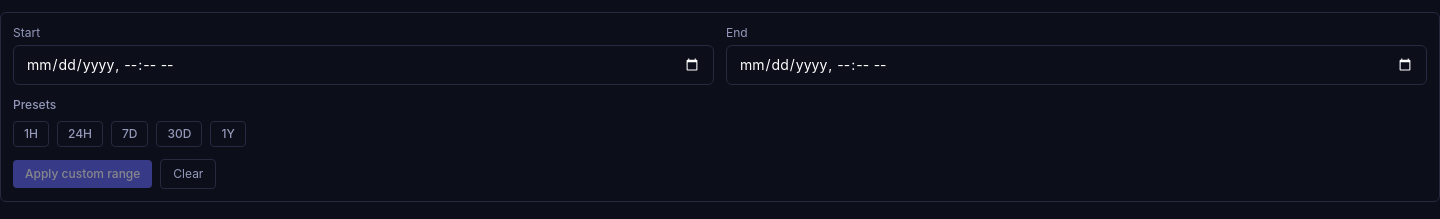
DateRangePicker › Custom Range Validation › enables apply button with valid custom range
Type "2026-04-01T12:00" into the field labelled "Start" at (364, 65), box [13, 45, 714, 85]
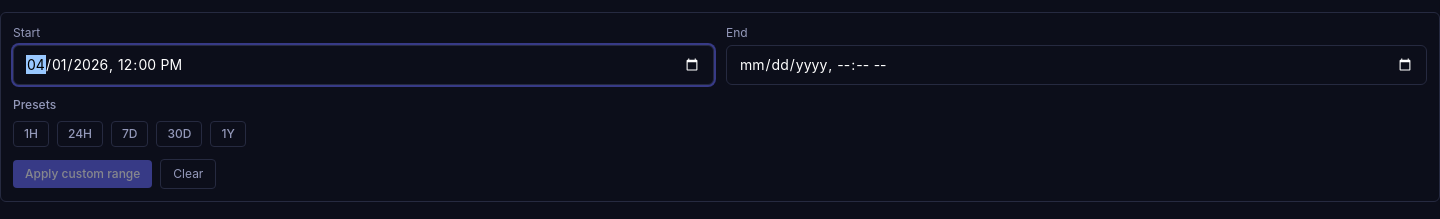
Type "2026-04-20T12:00" into the field labelled "End" at (1076, 65), box [726, 45, 1427, 85]
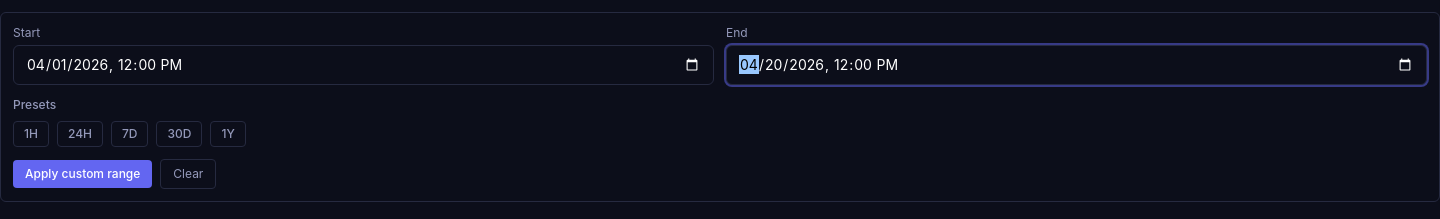
Expected: the button "Apply custom range" is enabled, [13, 160, 152, 188]
